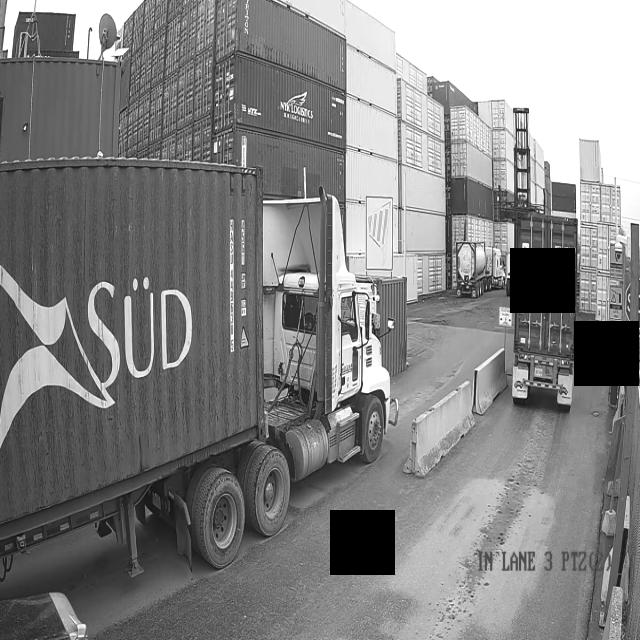container_side_no: (226, 208, 237, 358)
truck_with_container: (0, 158, 398, 576), (511, 211, 579, 410)
